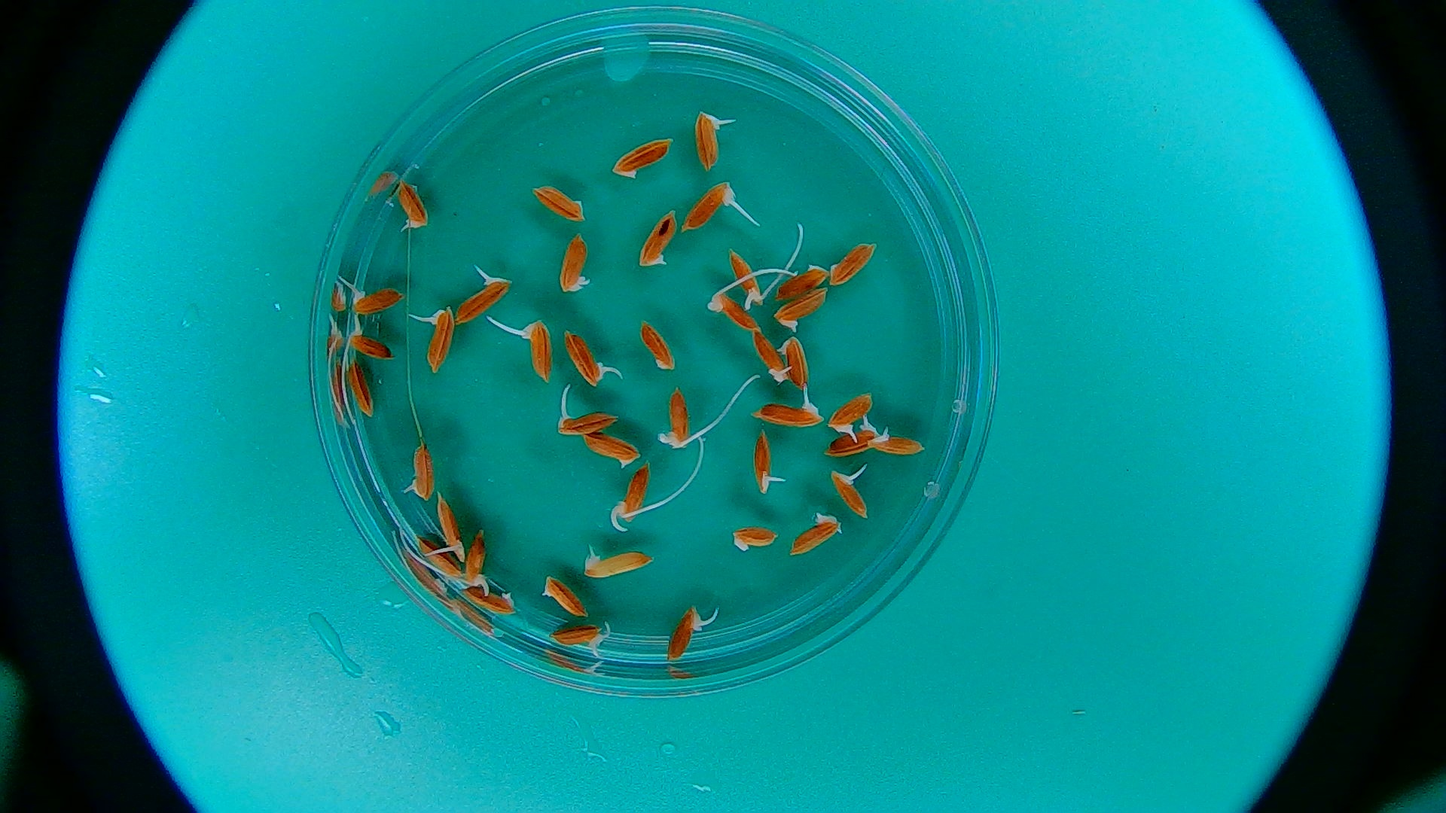no: (529, 178, 590, 226), (416, 531, 464, 585), (828, 242, 880, 289), (791, 513, 847, 556), (615, 134, 669, 176), (770, 262, 828, 300), (639, 212, 677, 266), (636, 317, 676, 368), (584, 430, 640, 466), (776, 291, 834, 324), (545, 577, 590, 618), (348, 355, 377, 418), (778, 338, 813, 387), (466, 589, 522, 615), (732, 527, 779, 550)
yes: (454, 274, 508, 326), (686, 178, 736, 231), (562, 333, 608, 389), (712, 295, 764, 340), (423, 300, 456, 370), (582, 546, 648, 580), (660, 602, 698, 661), (557, 233, 592, 293), (462, 526, 491, 595), (551, 619, 606, 655), (829, 470, 871, 517), (751, 431, 781, 496), (756, 400, 825, 428), (660, 388, 692, 448), (343, 285, 401, 318), (829, 391, 873, 434), (522, 317, 552, 380), (391, 179, 428, 230), (729, 248, 762, 305), (436, 493, 462, 565), (824, 427, 878, 461), (557, 407, 616, 438), (407, 439, 435, 502), (866, 431, 923, 461), (343, 330, 393, 364), (755, 332, 789, 380), (694, 109, 722, 167), (620, 465, 650, 518)
